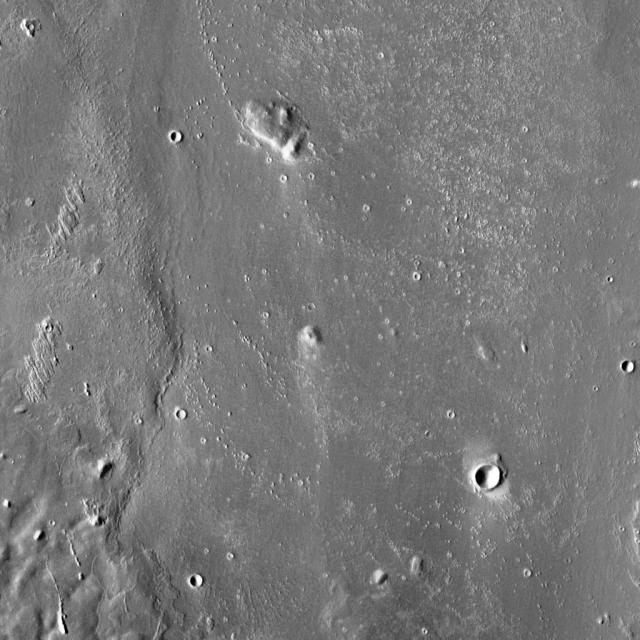crater: (482, 467, 508, 492), (196, 577, 207, 588), (172, 134, 182, 144), (181, 411, 190, 421), (626, 365, 635, 374), (306, 298, 314, 304), (413, 269, 419, 275), (0, 103, 3, 110)
